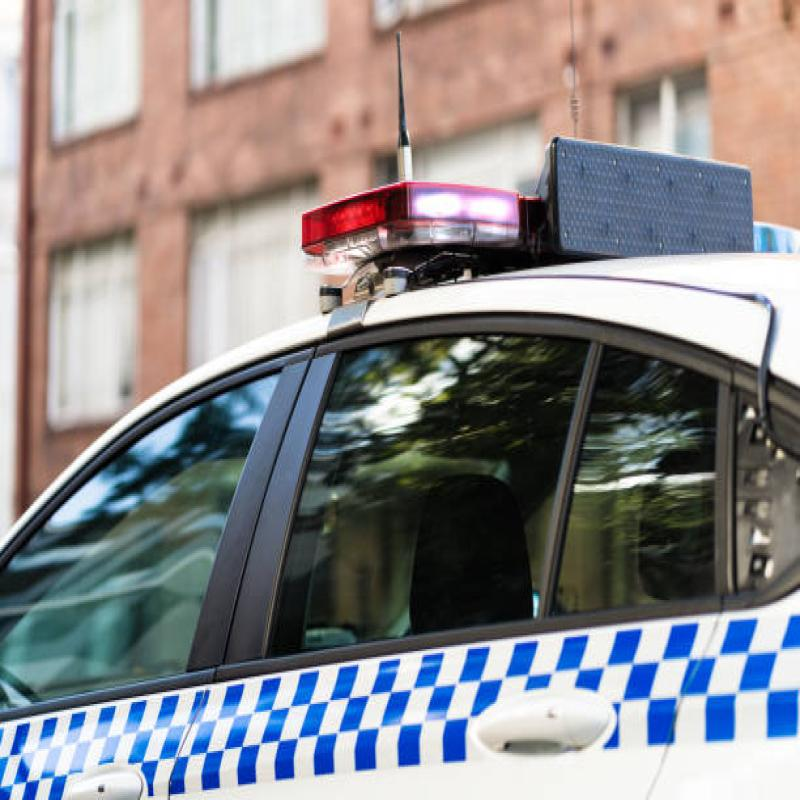AmbulanceSiren: (285, 148, 542, 290)
